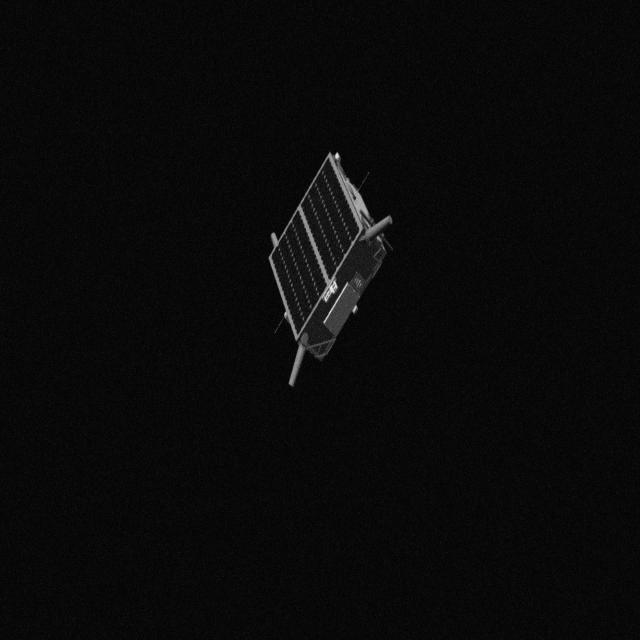satellite: (268, 150, 406, 398)
